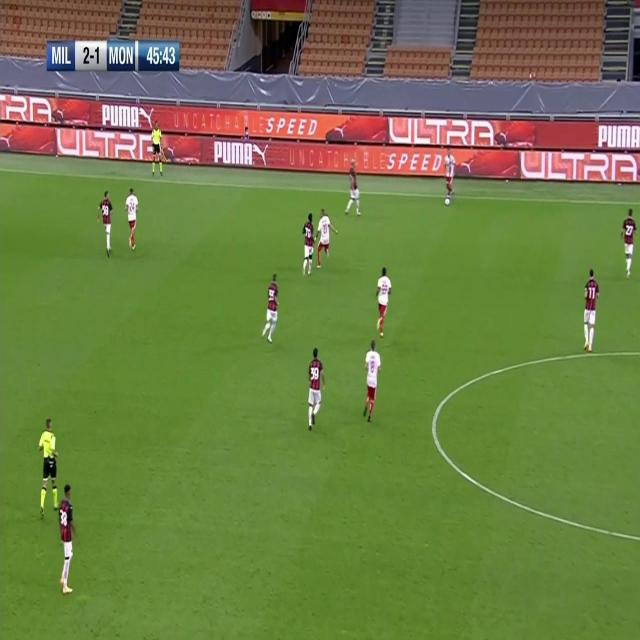ball: (444, 196, 450, 206)
player: (56, 483, 78, 599), (360, 339, 382, 425), (305, 346, 326, 431), (581, 266, 599, 354), (261, 273, 281, 344), (374, 264, 392, 340), (315, 207, 336, 268), (620, 206, 636, 279), (99, 188, 115, 258), (124, 185, 140, 252), (344, 161, 362, 219), (301, 212, 315, 276), (443, 148, 455, 200)
referee: (37, 412, 60, 521), (149, 118, 165, 180)
